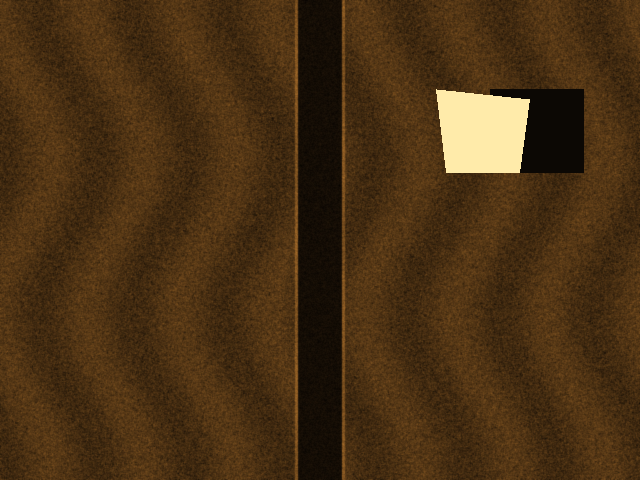Other Man-made Debris: (436, 89, 529, 172)
